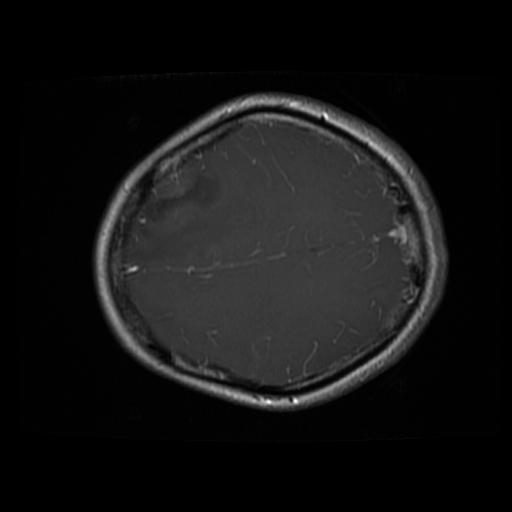glioma: (130, 157, 229, 254)
